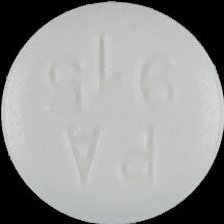50111-915: (0, 0, 224, 224)
